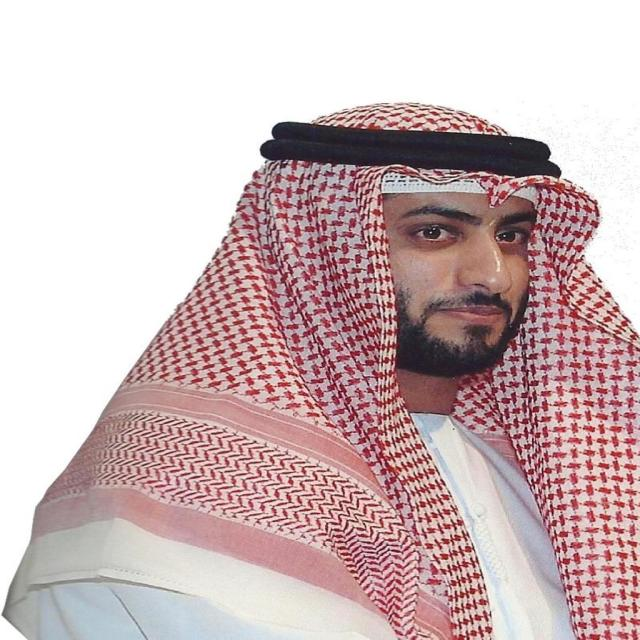Face: (351, 172, 572, 382)
